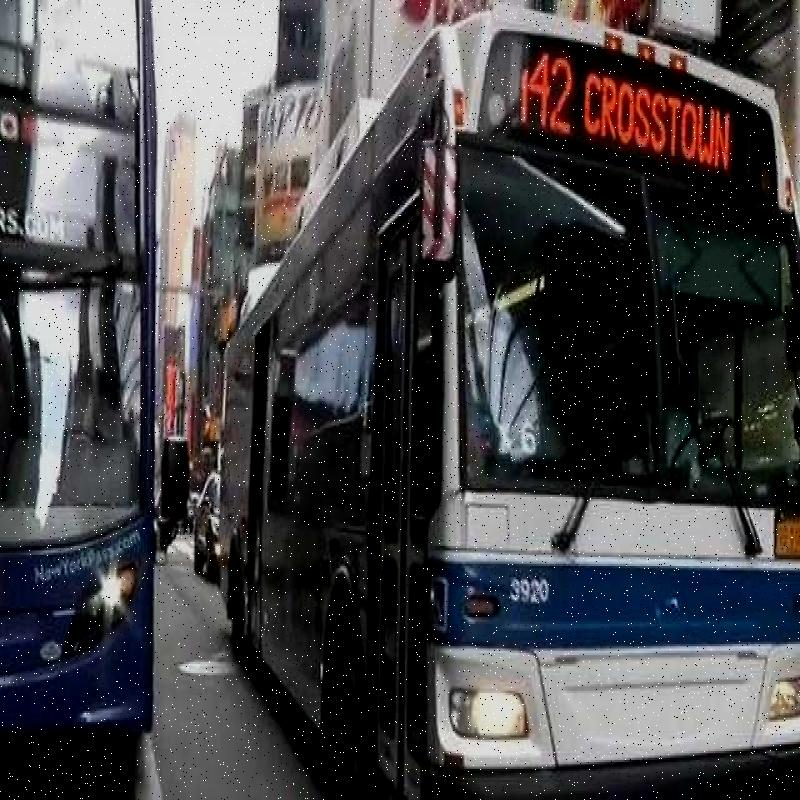bus: (233, 0, 800, 777), (0, 0, 182, 744)
